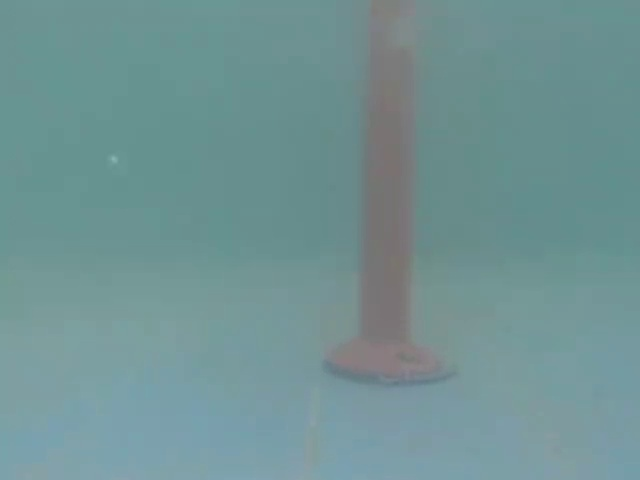flare: (319, 0, 455, 402)
